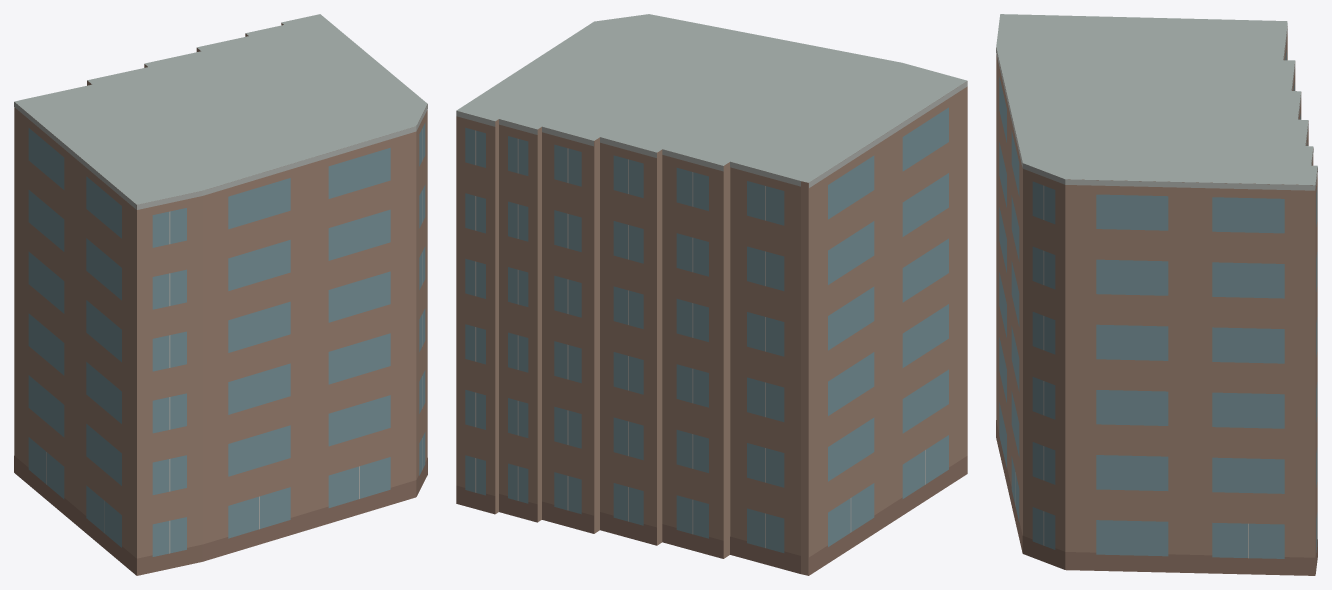
Rendered from survey-upis-32942382.glb.
The picture shows the model from 3 angles, left to right: view 1: azimuth 30°, elevation 25°; view 2: azimuth 150°, elevation 25°; view 3: azimuth 270°, elevation 25°; orthographic projection. The views are drawn at different scales.
Visible parts, largest first — view 1: survey-upis-32942382.tmp; view 2: survey-upis-32942382.tmp; view 3: survey-upis-32942382.tmp.
Boxes of the visible parts, x1,y1,x2,y2 form: survey-upis-32942382.tmp: (14, 14, 427, 575); survey-upis-32942382.tmp: (456, 14, 967, 575); survey-upis-32942382.tmp: (996, 14, 1317, 575).
Bounding box in the file's own units: 16.17 × 17.2 × 12.84.
